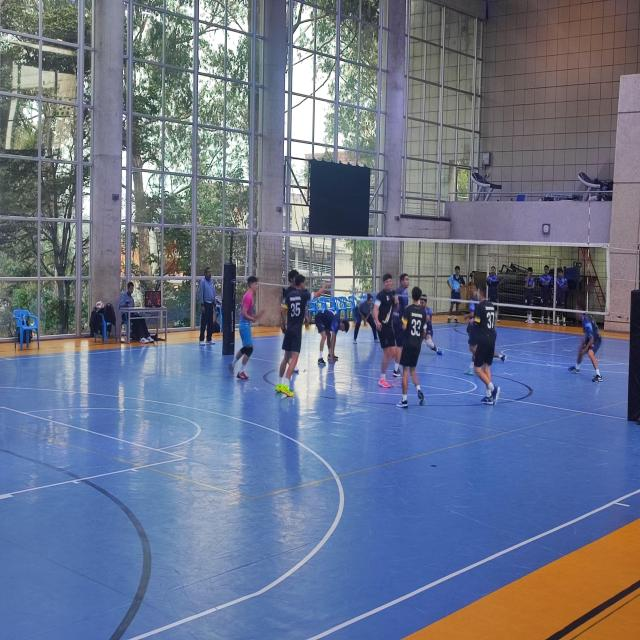volleyball: (95, 300, 104, 310)
